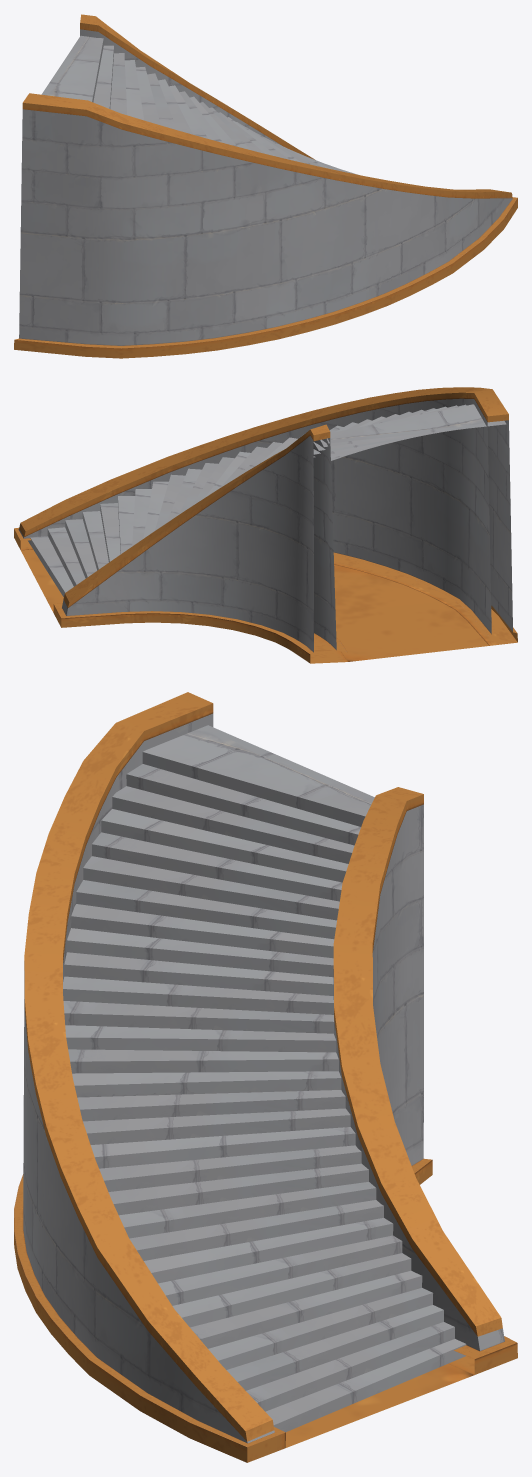
The model's file is SM_Stair_Circular_Tribunal.fbx.
3 views of the same model, one above another, from view 1: azimuth 30°, elevation 25°; view 2: azimuth 150°, elevation 25°; view 3: azimuth 270°, elevation 25° (orthographic). The views are drawn at different scales.
Parts seen in each view (by area): view 1: SM_Stair_Circular_Tribunal; view 2: SM_Stair_Circular_Tribunal; view 3: SM_Stair_Circular_Tribunal.
Part boxes in pixels (<box>): SM_Stair_Circular_Tribunal: <box>14,14,517,358</box>; SM_Stair_Circular_Tribunal: <box>14,387,517,663</box>; SM_Stair_Circular_Tribunal: <box>14,692,517,1462</box>.
Size of the model in its own units: 11.97 by 5.34 by 6.41.
